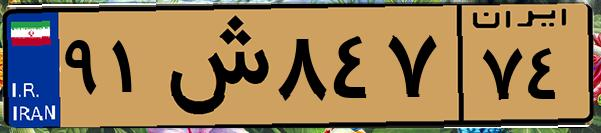1: (110, 28, 158, 98)
4: (330, 28, 385, 110), (525, 38, 570, 115)
7: (385, 28, 445, 110), (475, 38, 525, 113)
8: (270, 28, 330, 110)
9: (57, 26, 110, 100)
ش: (158, 12, 270, 120)
